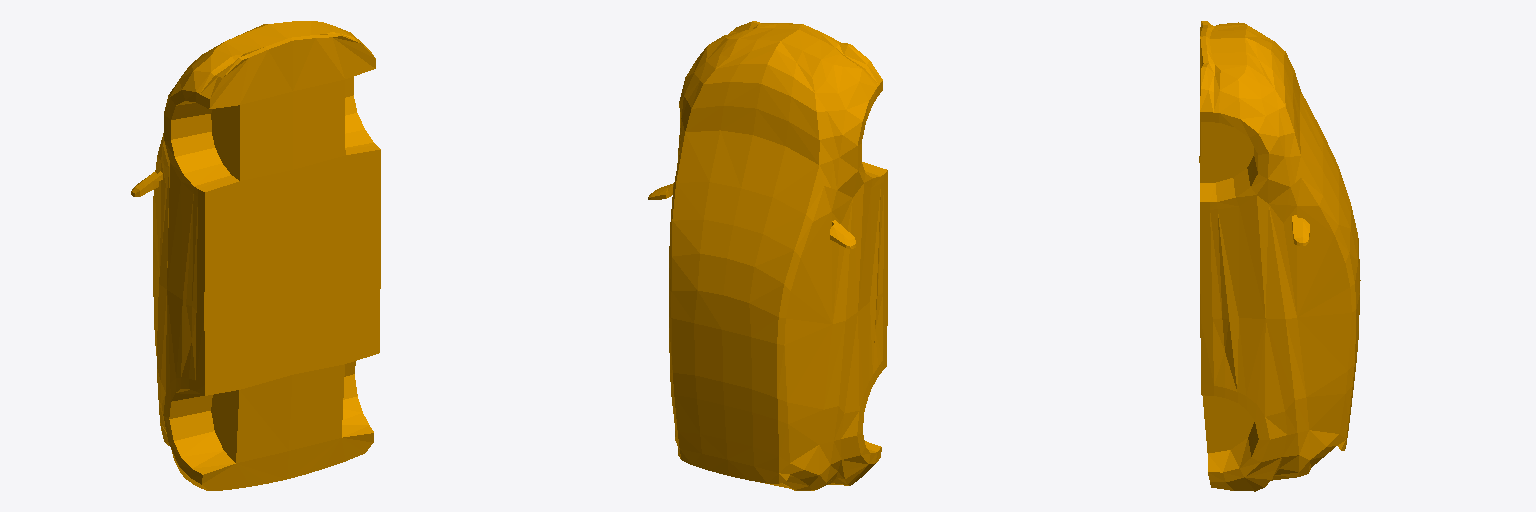
robot.urdf — fusion:
<?xml version="1.0" ?>
<robot name="fusion">
  <link name="base_link">
    <visual>
      <!-- origin xyz="0 0 0" rpy="1.57 0 0"/ -->
      <origin xyz="0 0 0" rpy="0 0 0"/>
      <geometry>
        <!-- mesh filename="package://fusion/robot_description/meshes/fusion/body.dae" scale="0.064 0.064 0.064"/ -->
        <mesh filename="package://fusion/robot_description/meshes/fusion/body.dae" scale="1.7 1.7 1.7"/>
      </geometry>
    </visual>
  </link>
</robot>

--- What the picture shows (computed from the rendered views, not written in the file) ---
Views: 3 orthographic renders of the robot side by side, from view 1: azimuth 30°, elevation 25°; view 2: azimuth 150°, elevation 25°; view 3: azimuth 270°, elevation 25°.
Robot: fusion — 1 links, 0 joints (none); root link base_link; default pose: every joint at zero.
Links seen in each view (by area): view 1: base_link; view 2: base_link; view 3: base_link.
Boxes of the visible links, bbox=[...] form: base_link: bbox=[131, 21, 380, 490]; base_link: bbox=[648, 21, 887, 490]; base_link: bbox=[1199, 21, 1360, 491].
Bounding box of the posed robot: 89.99 × 61.69 × 180 m (x, y, z).
Meshes: 1 distinct files referenced, 1 mesh visuals loaded (1 Collada DAE).
